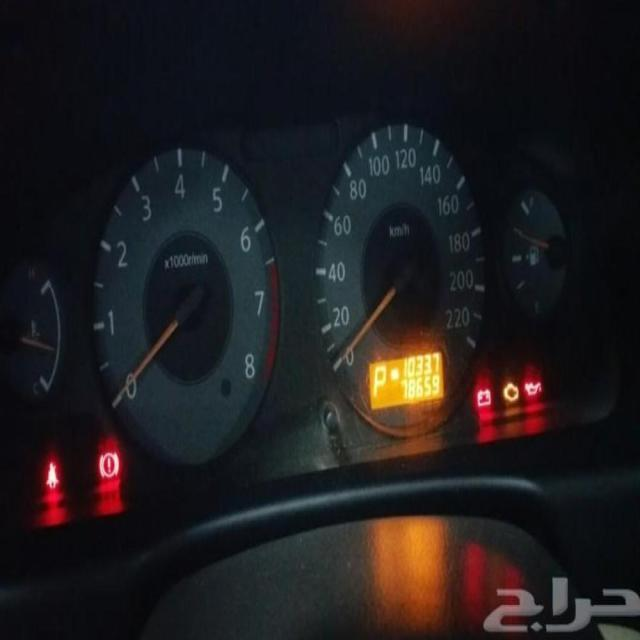Seat Belt: (44, 462, 59, 490)
